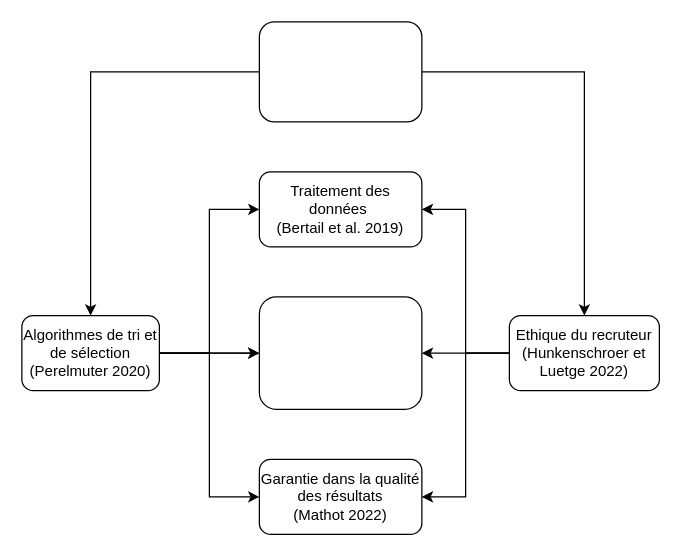
This 681x556 diagram has some shape labels left out. The centre of each missing label's shape, as x and y in pixels:
Critères du développement de la confiance (Potočnik et al. 2021): pixel 340 71
Equité dans le traitement des candidats (Rieskamp et al. 2023): pixel 340 352
